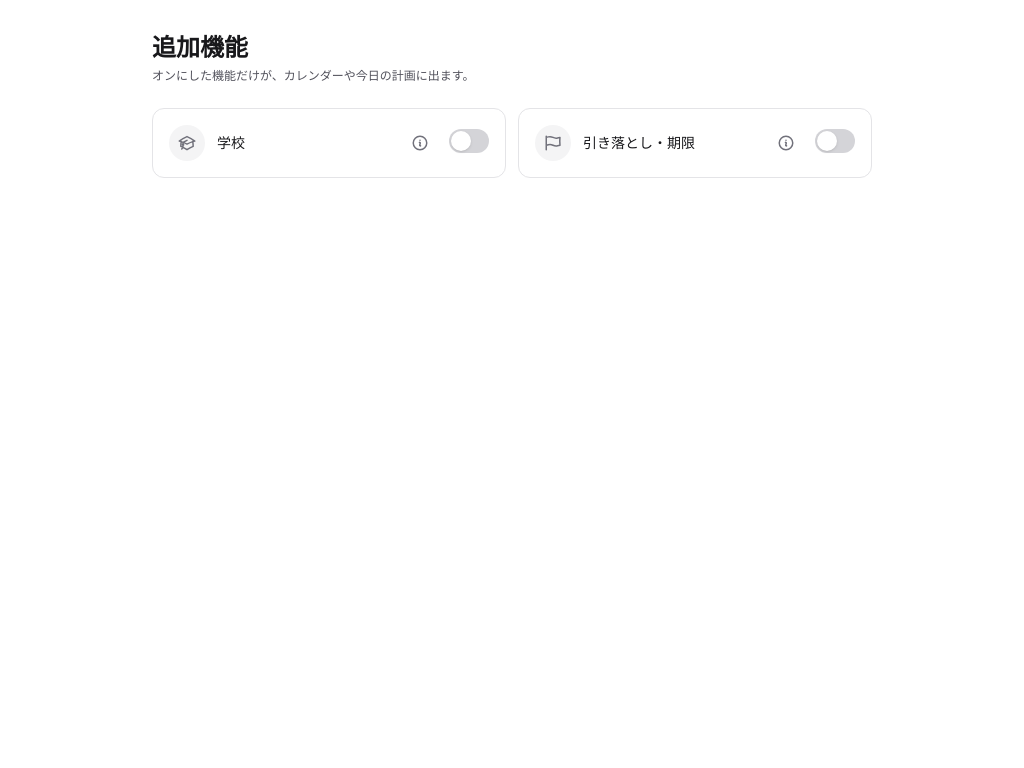
Test: 追加機能の画面と設定（#453） › ⓘ で説明のポップアップが出る（オフでも）
Click the button named "学校の説明". click: {"x": 420, "y": 143}
box: [403,126,437,160]
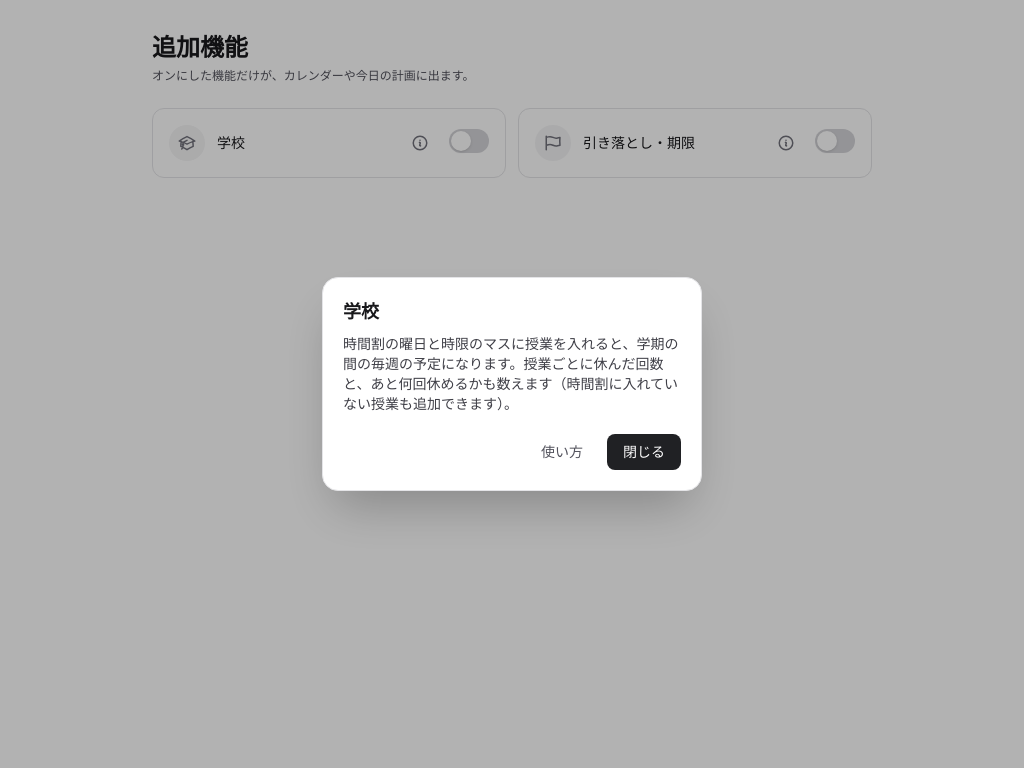
Now the dialog "学校" shows "休んだ回数", box [343,335,678,412]
Click the button "閉じる". click: {"x": 644, "y": 452}
box: [607,434,681,470]
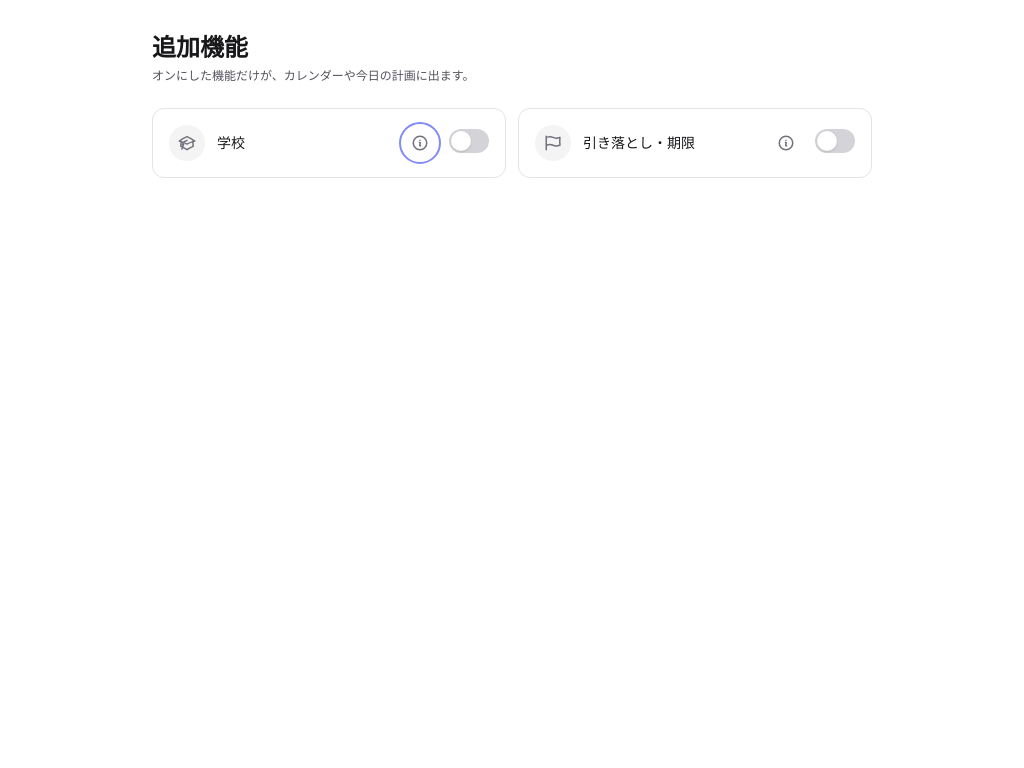
Now the dialog is gone
